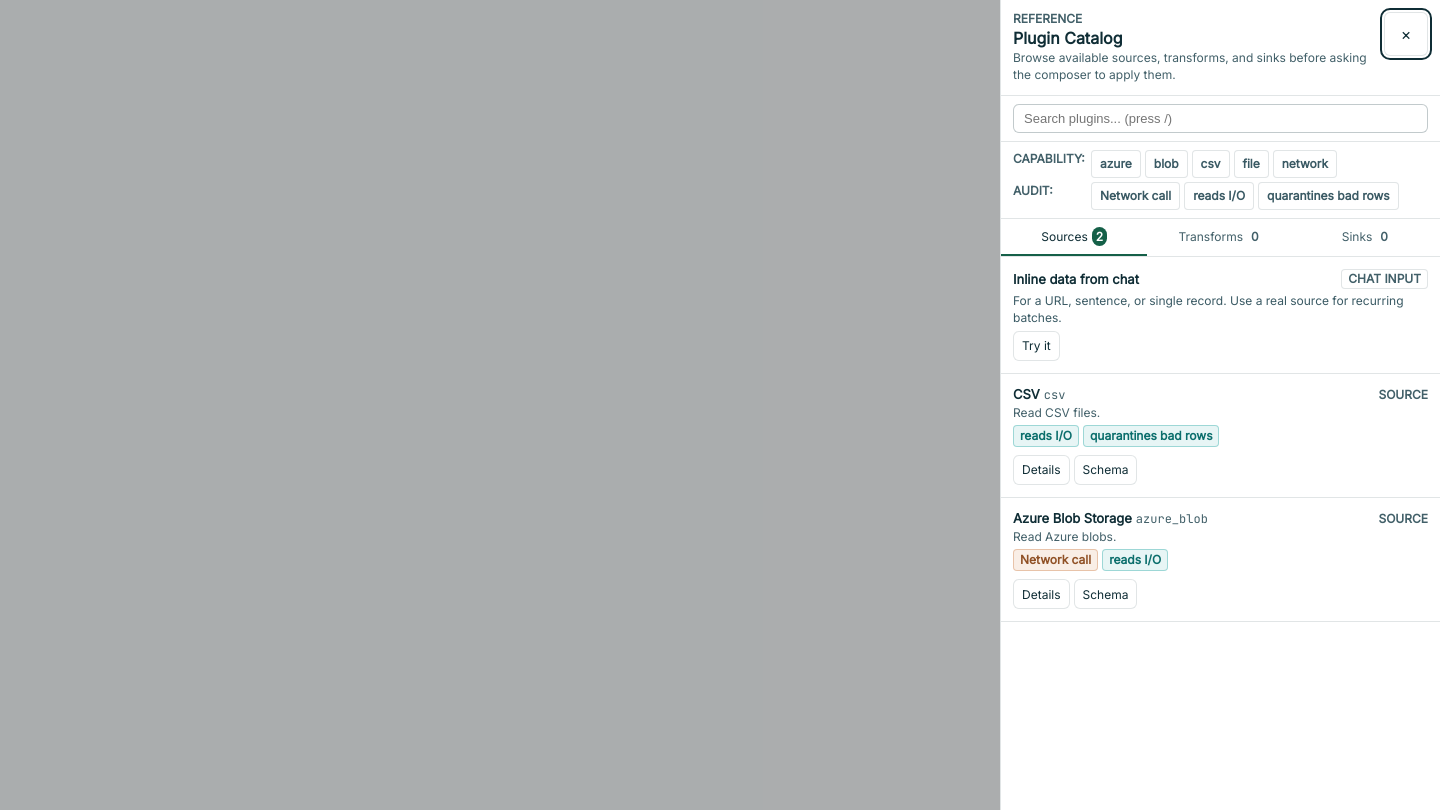
Test: CatalogDrawer — Phase 7B reshape › filtering by capability tag narrows the visible plugins
Expected: the text "Read Azure blobs." is shown, [1013,529,1116,544]
Click the button "csv": coordinates (1211, 164) [1192,150,1230,178]
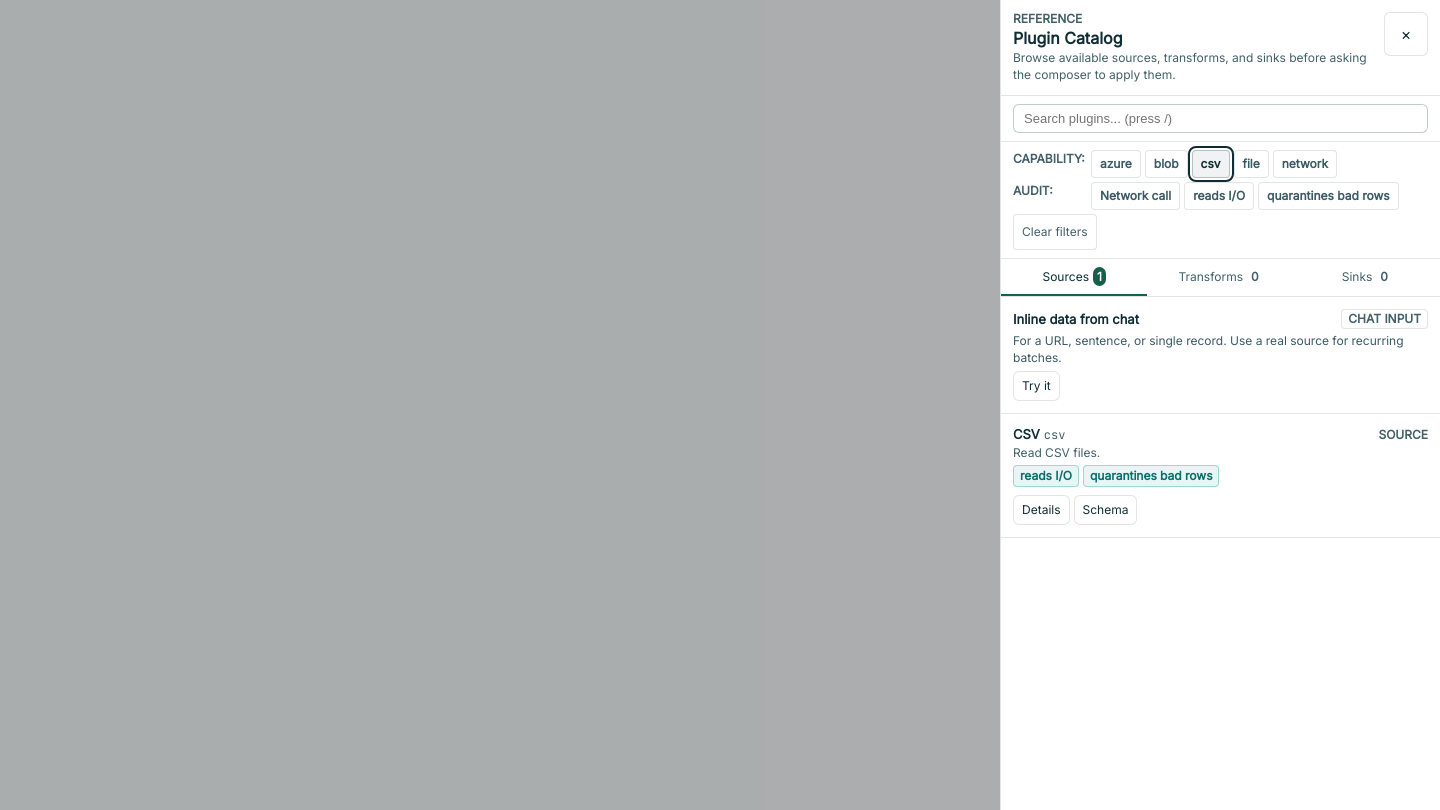
Expected: the text "Read CSV files." is shown, [1013,445,1100,460]
Now the text "Read Azure blobs." is gone
